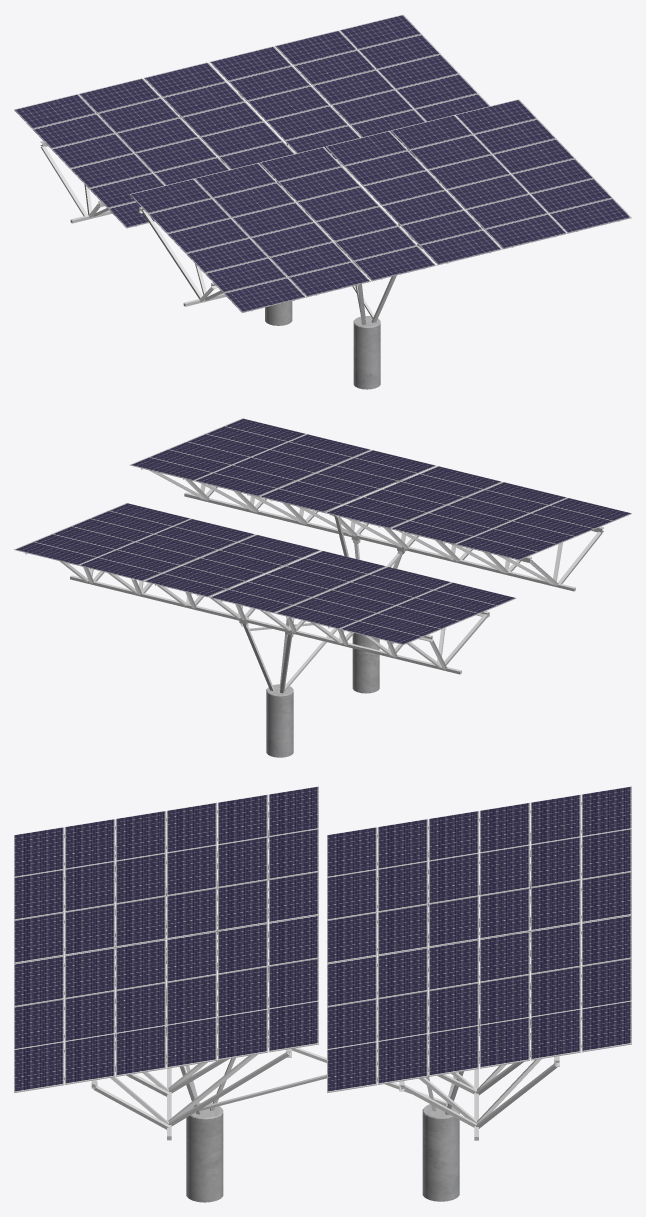
Rendered from Quest_Carport.fbx.
3 renders of one model, top to bottom at view 1: azimuth 30°, elevation 25°; view 2: azimuth 150°, elevation 25°; view 3: azimuth 270°, elevation 25°, orthographic. The views are drawn at different scales.
Visible parts, largest first — view 1: Box029; view 2: Box029; view 3: Box029.
Part boxes in pixels (<box>): Box029: <box>14,14,631,389</box>; Box029: <box>14,418,631,757</box>; Box029: <box>14,786,631,1202</box>.
Size of the model in its own units: 11.89 by 5.99 by 12.01.
